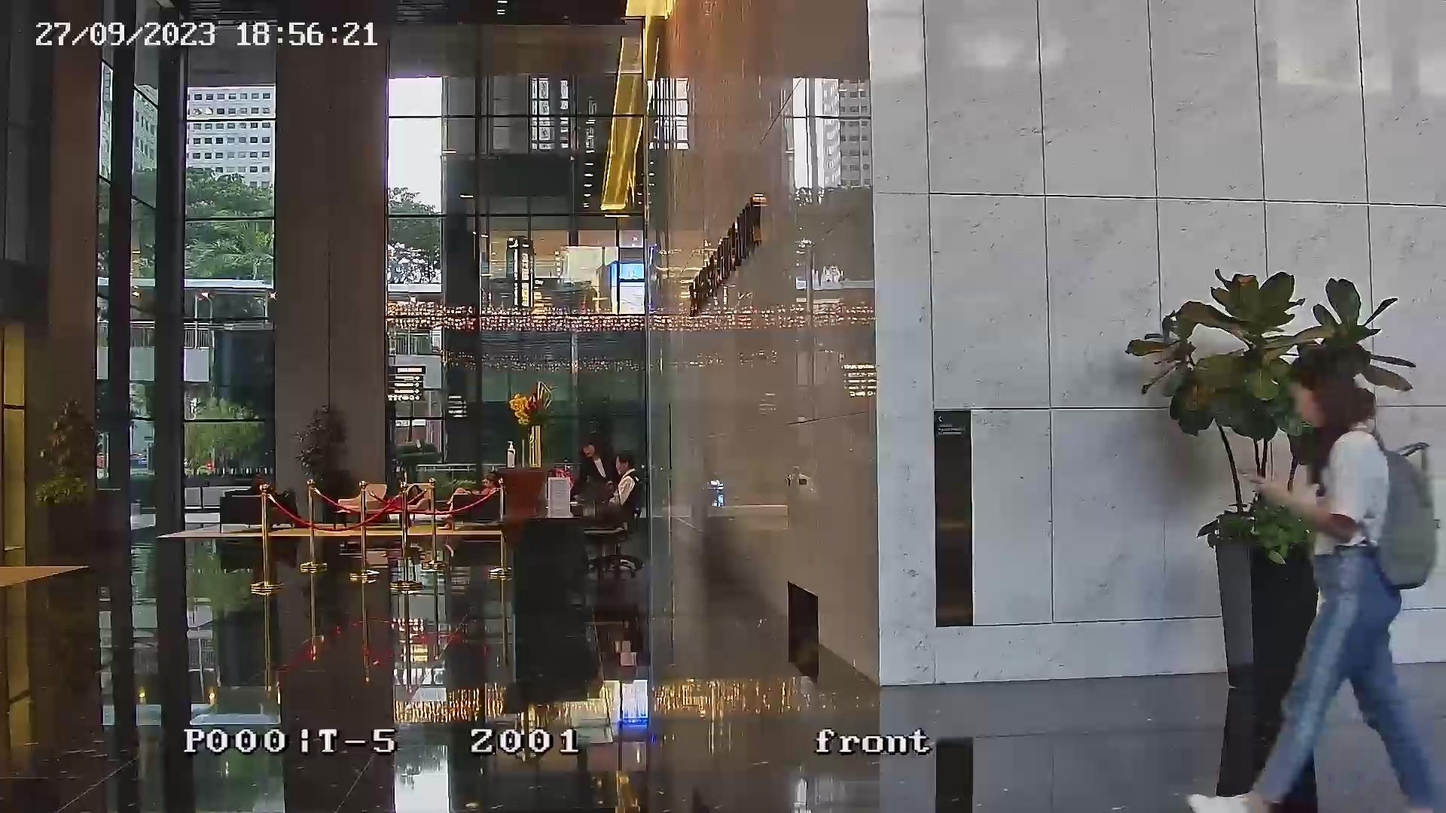person: (1189, 349, 1441, 811), (247, 471, 310, 528), (438, 473, 498, 531), (569, 433, 620, 501), (609, 450, 638, 510)
